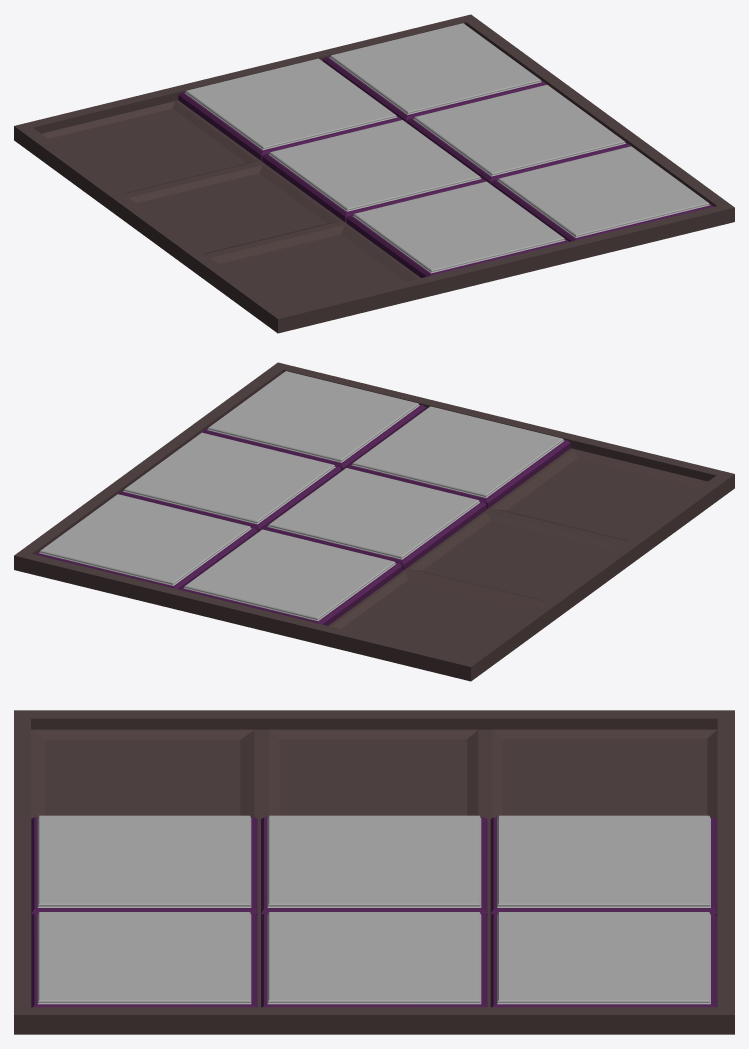
Rendered from Puzzle Deslizable.fbx.
The picture shows the model from 3 angles, top to bottom: view 1: azimuth 30°, elevation 25°; view 2: azimuth 150°, elevation 25°; view 3: azimuth 270°, elevation 25°; orthographic projection. The views are drawn at different scales.
Visible parts, largest first — view 1: pCube11, polySurface14, polySurface13, polySurface15, polySurface17, polySurface18, polySurface16; view 2: pCube11, polySurface15, polySurface14, polySurface13, polySurface16, polySurface17, polySurface18; view 3: pCube11, polySurface13, polySurface14, polySurface15, polySurface18, polySurface16, polySurface17.
Boxes of the visible parts, x1=… form: pCube11: x1=14, y1=14, x2=734, y2=333; polySurface14: x1=262, y1=120, x2=486, y2=222; polySurface13: x1=178, y1=58, x2=402, y2=160; polySurface15: x1=346, y1=181, x2=568, y2=277; polySurface17: x1=407, y1=85, x2=630, y2=183; polySurface18: x1=323, y1=23, x2=546, y2=122; polySurface16: x1=491, y1=146, x2=713, y2=241; pCube11: x1=14, y1=362, x2=734, y2=681; polySurface15: x1=346, y1=406, x2=570, y2=508; polySurface14: x1=262, y1=468, x2=486, y2=570; polySurface13: x1=180, y1=529, x2=402, y2=625; polySurface16: x1=202, y1=371, x2=426, y2=470; polySurface17: x1=118, y1=432, x2=341, y2=531; polySurface18: x1=35, y1=494, x2=257, y2=589; pCube11: x1=14, y1=710, x2=734, y2=1034; polySurface13: x1=490, y1=815, x2=717, y2=915; polySurface14: x1=261, y1=815, x2=487, y2=915; polySurface15: x1=31, y1=815, x2=257, y2=915; polySurface18: x1=490, y1=912, x2=717, y2=1007; polySurface16: x1=31, y1=912, x2=257, y2=1007; polySurface17: x1=261, y1=912, x2=487, y2=1007.
Size of the model in its own units: 13.11 by 0.4632 by 13.11.
